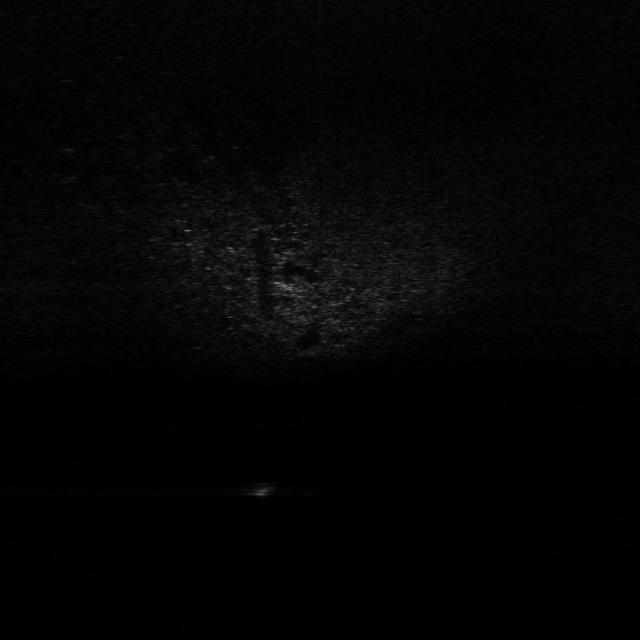cylinder: (250, 478, 276, 499)
